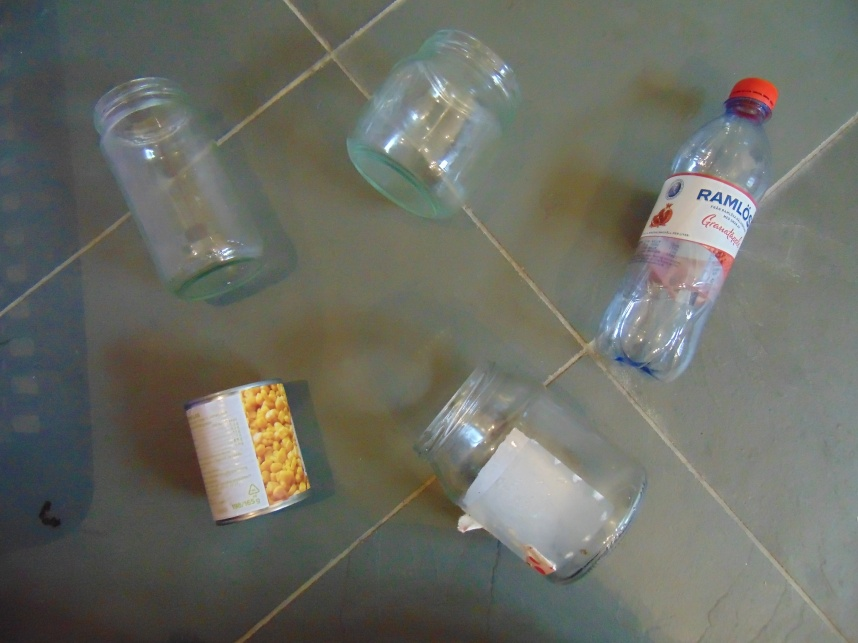glass_bottle: (413, 356, 649, 584), (92, 75, 264, 305), (346, 27, 522, 218)
metal_can: (184, 377, 314, 526)
plastic_bottle: (597, 78, 782, 385)
